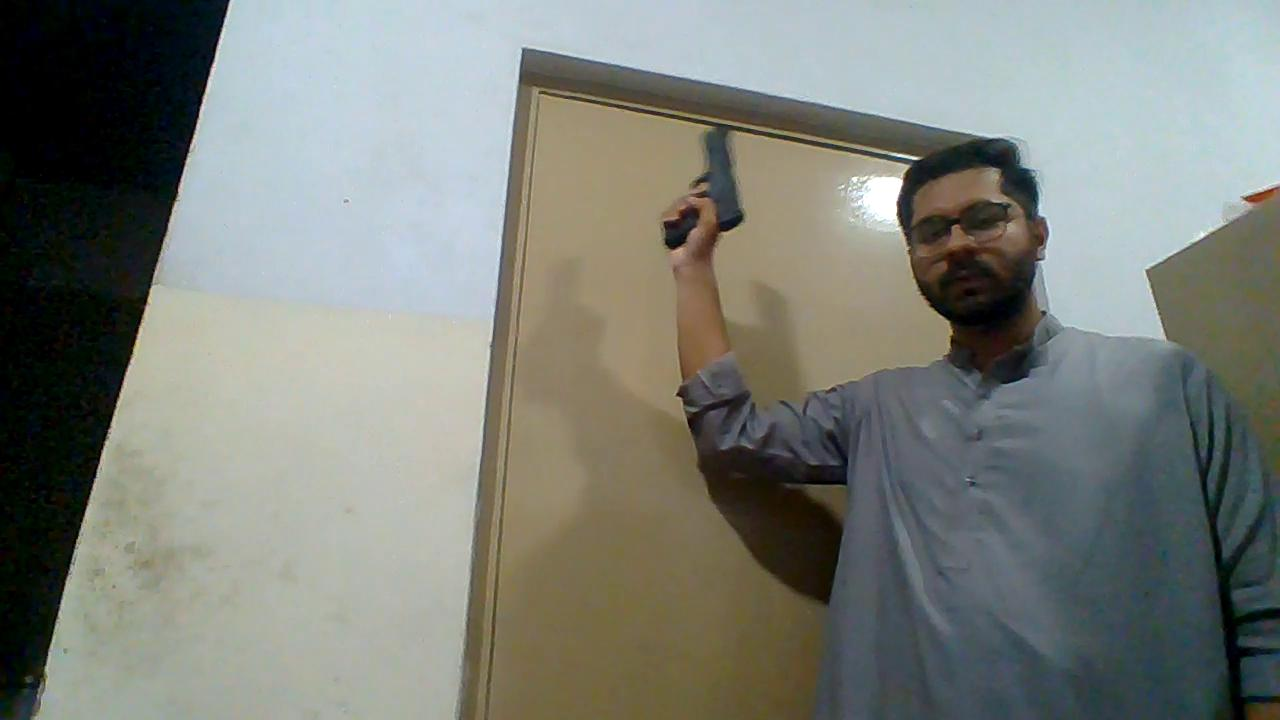criminal: (656, 117, 1280, 720)
weapon: (658, 119, 744, 252)
